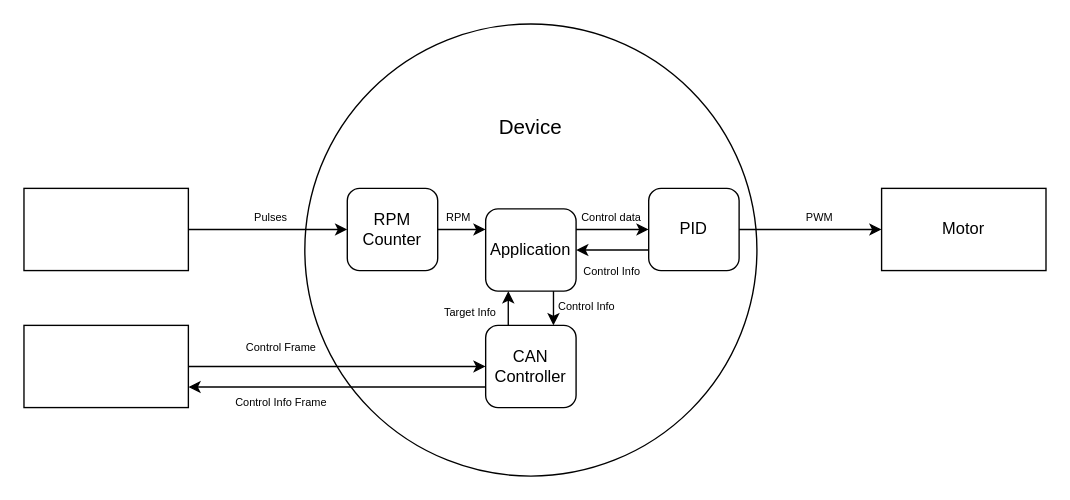
Image size: 1070x500. Some labels were removed from this diagram. The centre of each missing label's shape, as x and y in pixels:
"CAN" belongs at pixel 105 366.
"Encoder" belongs at pixel 105 229.
